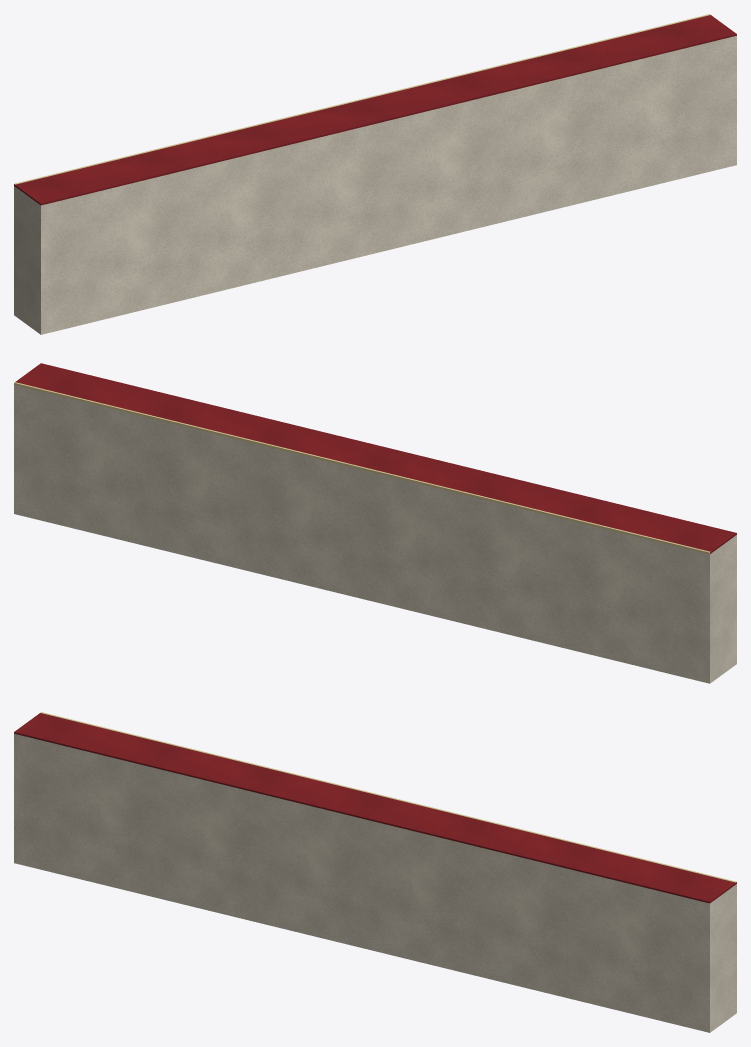
File: tier_11.glb
3 renders of one model, top to bottom at view 1: azimuth 30°, elevation 25°; view 2: azimuth 150°, elevation 25°; view 3: azimuth 330°, elevation 25°, orthographic.
Visible parts, largest first — view 1: tier_11_trim, tier_11_carpet, tier_11_gold; view 2: tier_11_trim, tier_11_carpet, tier_11_gold; view 3: tier_11_trim, tier_11_carpet, tier_11_gold.
Boxes of the visible parts, <box> form: tier_11_trim: <box>14,35,736,334</box>; tier_11_carpet: <box>14,15,736,205</box>; tier_11_gold: <box>14,14,710,184</box>; tier_11_trim: <box>14,385,736,683</box>; tier_11_carpet: <box>15,363,736,553</box>; tier_11_gold: <box>14,382,710,554</box>; tier_11_trim: <box>14,733,736,1032</box>; tier_11_carpet: <box>14,713,736,903</box>; tier_11_gold: <box>40,712,736,882</box>.
Bounding box in the file's own units: 13.4 × 2.42 × 0.905.
3 materials, 2 textured.
